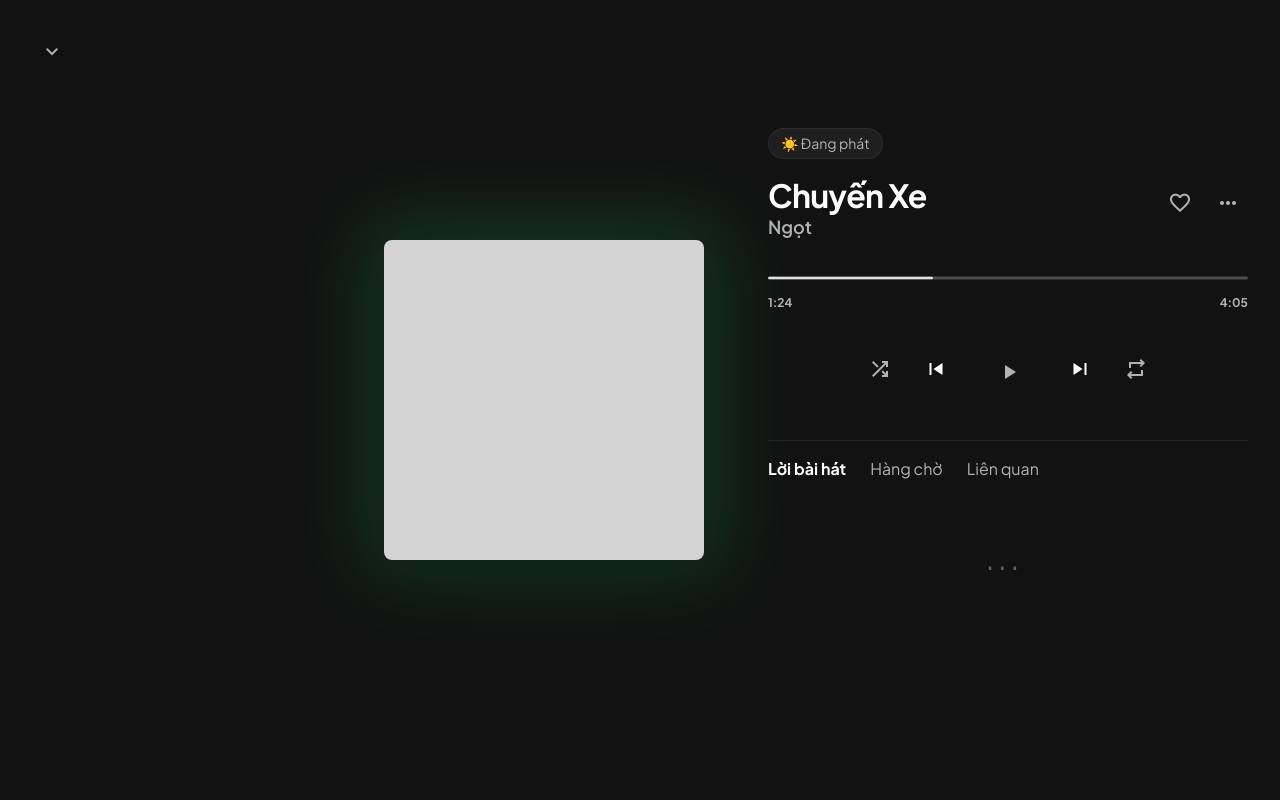
Scenario: NowPlayingOverlay — related tab › shows loading spinner while fetching
Click the tab with test id "tab-related".
click(1003, 471)  # box [967, 457, 1039, 485]
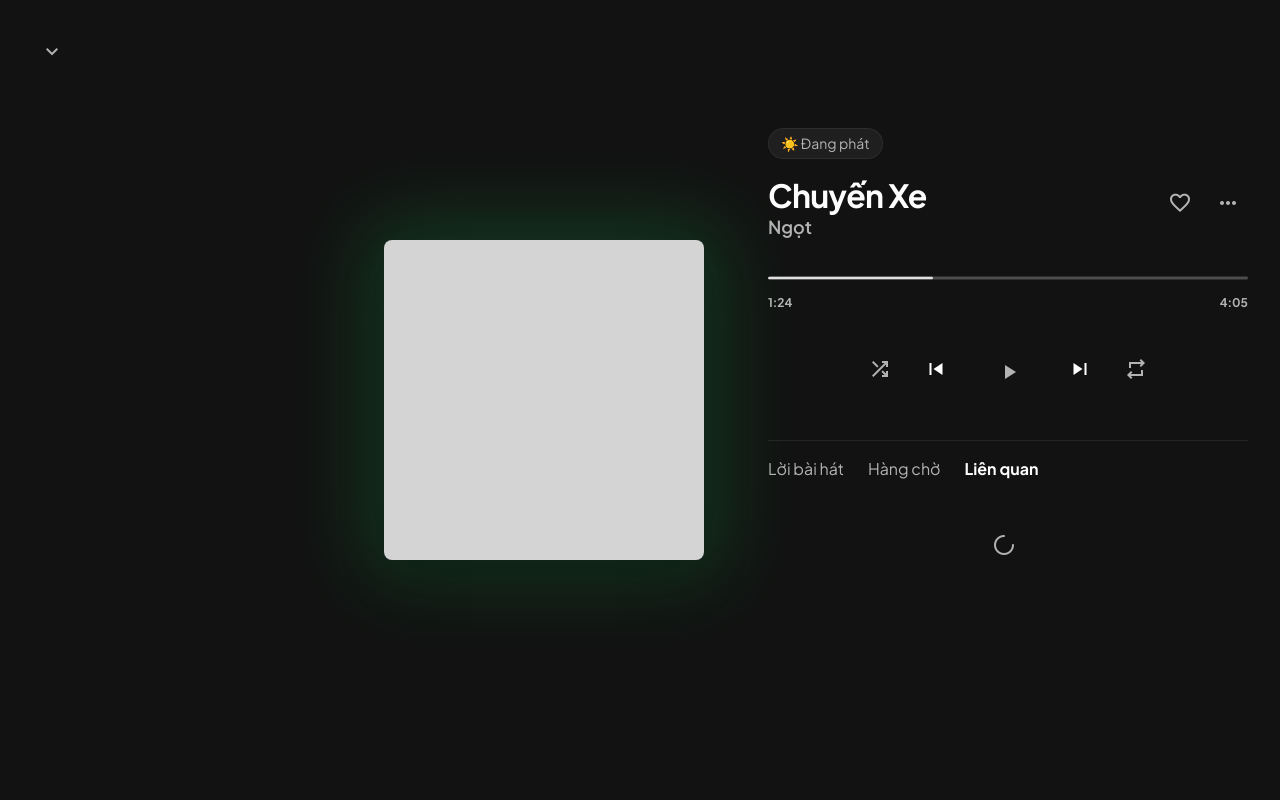
Expected: the element with test id "related-loading" is shown, [992, 531, 1016, 559]
